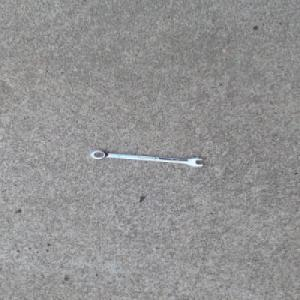Wrench: (89, 149, 204, 167)
